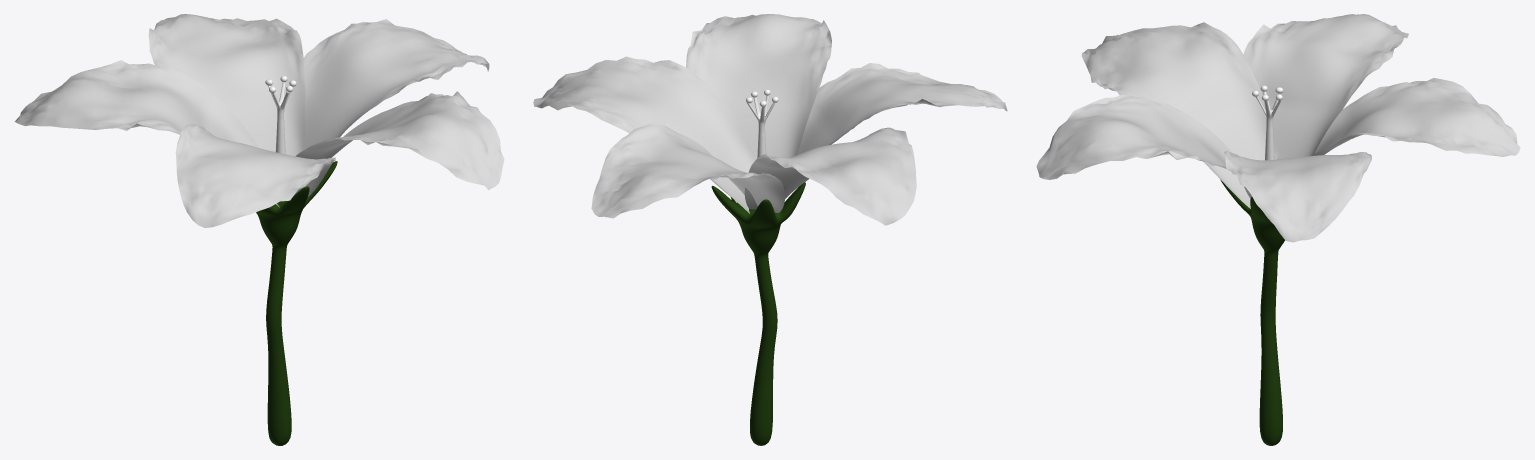
The picture shows the model from 3 angles, left to right: view 1: azimuth 30°, elevation 25°; view 2: azimuth 150°, elevation 25°; view 3: azimuth 270°, elevation 25°; orthographic projection. The views are drawn at different scales.
Parts seen in each view (by area): view 1: Cylinder.001; view 2: Cylinder.001; view 3: Cylinder.001.
Part boxes in pixels (x1,y1,x2,y2): Cylinder.001: (14,14,504,445); Cylinder.001: (533,14,1007,445); Cylinder.001: (1036,14,1520,445).
Size of the model in its own units: 5.85 by 4.82 by 5.89.
